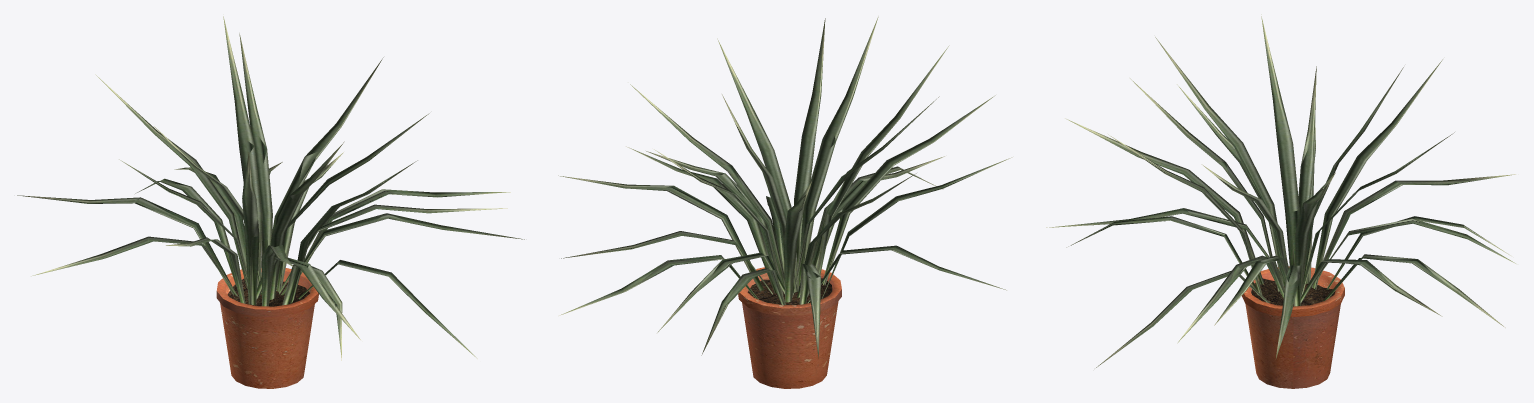
File: plant_1.obj
The picture shows the model from 3 angles, left to right: view 1: azimuth 30°, elevation 25°; view 2: azimuth 150°, elevation 25°; view 3: azimuth 270°, elevation 25°; orthographic projection.
Parts seen in each view (by area): view 1: plant_1_plant_1_leaf_uv, plant_1_plant_1_pot_uv; view 2: plant_1_plant_1_leaf_uv, plant_1_plant_1_pot_uv; view 3: plant_1_plant_1_leaf_uv, plant_1_plant_1_pot_uv.
Part boxes in pixels (bbox=[...]): plant_1_plant_1_leaf_uv: bbox=[17, 16, 524, 360]; plant_1_plant_1_pot_uv: bbox=[216, 268, 318, 388]; plant_1_plant_1_leaf_uv: bbox=[558, 16, 1012, 358]; plant_1_plant_1_pot_uv: bbox=[738, 267, 841, 388]; plant_1_plant_1_leaf_uv: bbox=[1046, 14, 1515, 367]; plant_1_plant_1_pot_uv: bbox=[1242, 266, 1344, 388].
Size of the model in its own units: 9.31 by 6.02 by 8.24.
2 materials, 2 textured.
